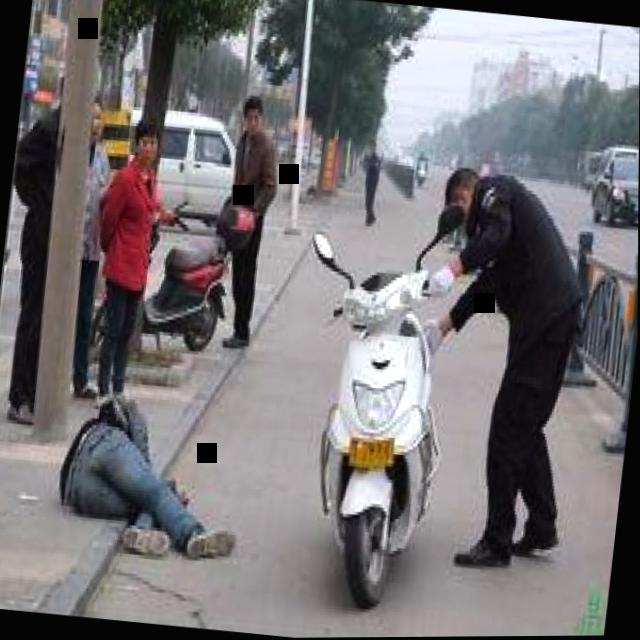Fall-Detected: (33, 365, 252, 568)
